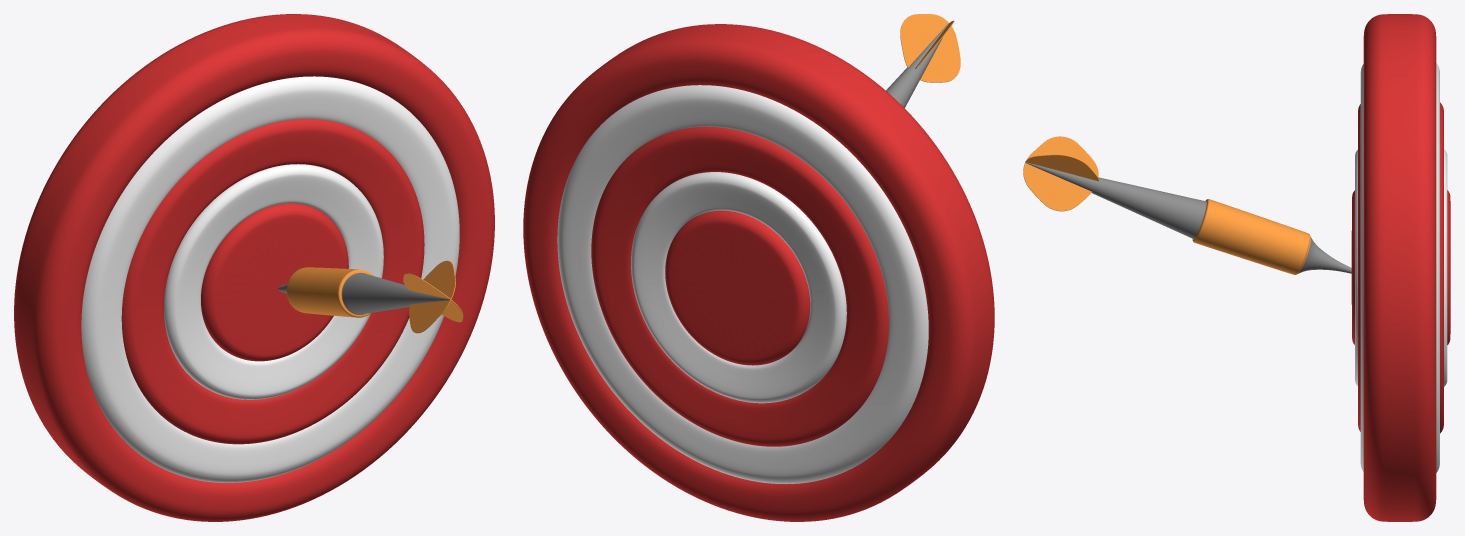
File: darts.glb
The picture shows the model from 3 angles, left to right: view 1: azimuth 30°, elevation 25°; view 2: azimuth 150°, elevation 25°; view 3: azimuth 270°, elevation 25°; orthographic projection. The views are drawn at different scales.
Visible parts, largest first — view 1: Cylinder.001; view 2: Cylinder.001; view 3: Cylinder.001.
Part boxes in pixels (box(x1,y1,x2,y2)): Cylinder.001: box(14, 14, 494, 521); Cylinder.001: box(523, 14, 994, 521); Cylinder.001: box(1023, 14, 1450, 521).
Size of the model in its own units: 3.49 by 3.49 by 2.93.
